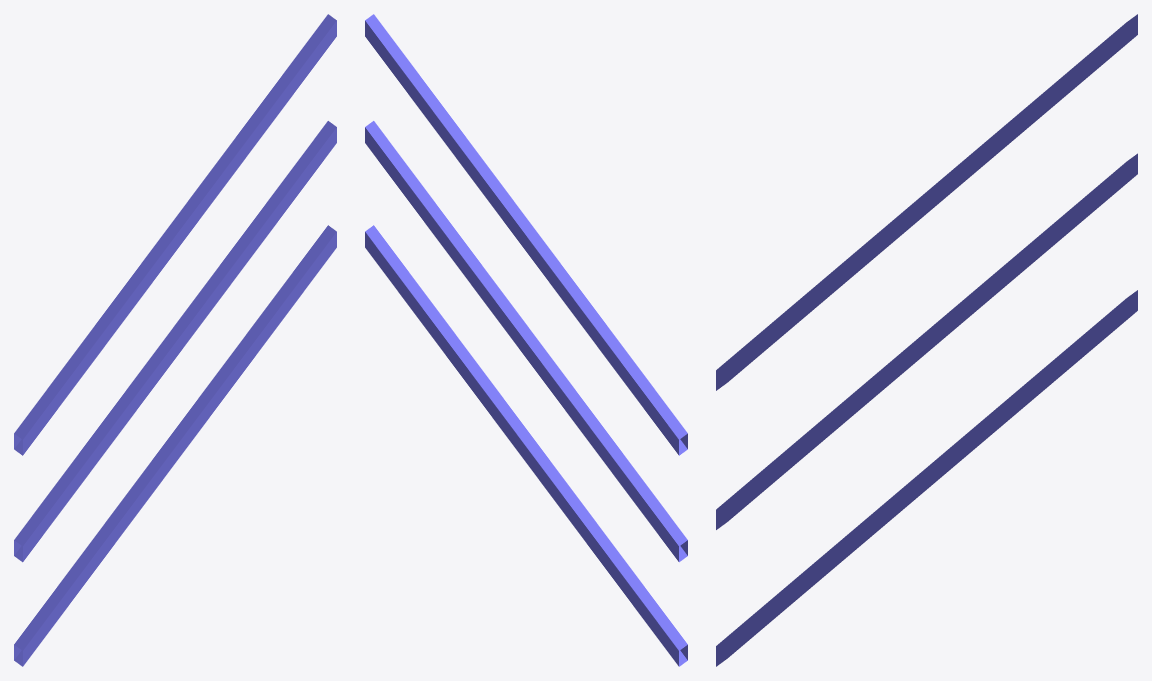
The model's file is stair5.fbx.
3 views of the same model, side by side, from view 1: azimuth 30°, elevation 25°; view 2: azimuth 150°, elevation 25°; view 3: azimuth 330°, elevation 25° (orthographic). The views are drawn at different scales.
Parts seen in each view (by area): view 1: Object036; view 2: Object036; view 3: Object036.
Boxes of the visible parts, x1,y1,x2,y2 form: Object036: (14, 14, 336, 666); Object036: (365, 14, 687, 666); Object036: (716, 14, 1137, 666).
Size of the model in its own units: 1.04 by 1.81 by 0.0506.
1 material, 1 textured.
